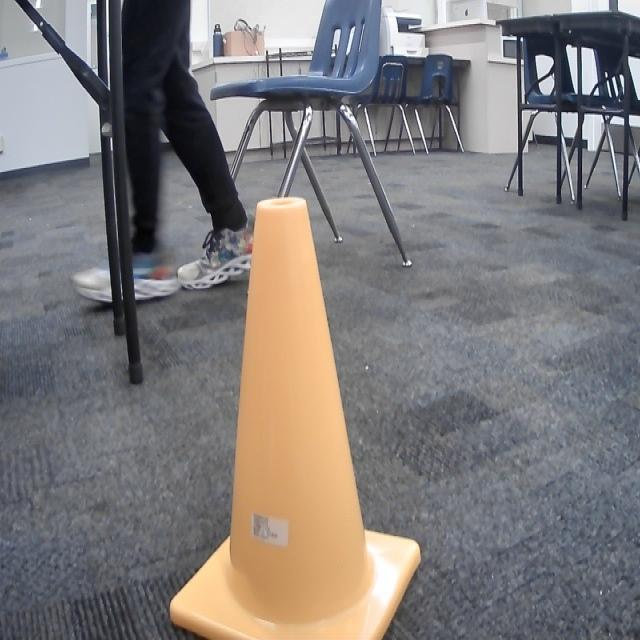cone: (168, 195, 426, 640)
